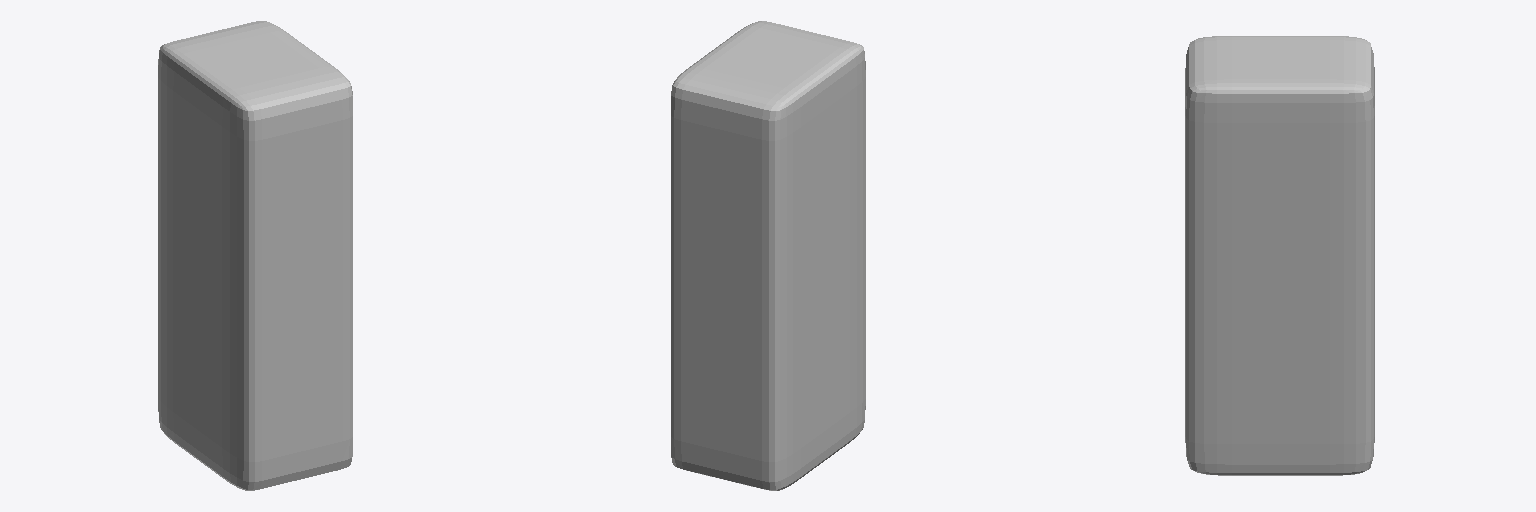
3 renders of one model, left to right at view 1: azimuth 30°, elevation 25°; view 2: azimuth 150°, elevation 25°; view 3: azimuth 270°, elevation 25°, orthographic.
Visible parts, largest first — view 1: polySurface15 text2FixedOneObjectNewNoHistory:pasted__T1; view 2: polySurface15 text2FixedOneObjectNewNoHistory:pasted__T1; view 3: polySurface15 text2FixedOneObjectNewNoHistory:pasted__T1.
Part boxes in pixels (bbox=[...]): polySurface15 text2FixedOneObjectNewNoHistory:pasted__T1: bbox=[158, 21, 352, 490]; polySurface15 text2FixedOneObjectNewNoHistory:pasted__T1: bbox=[671, 21, 865, 490]; polySurface15 text2FixedOneObjectNewNoHistory:pasted__T1: bbox=[1185, 36, 1374, 475].
Bounding box in the file's own units: 119 × 387 × 170.